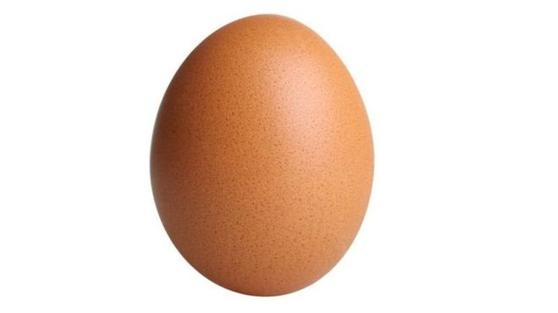egg: (154, 17, 378, 295)
